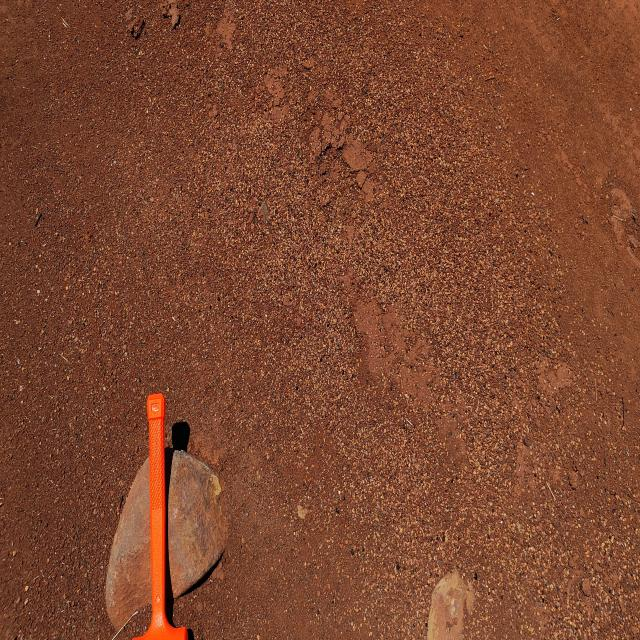Orange_hammer: (132, 392, 193, 638)
